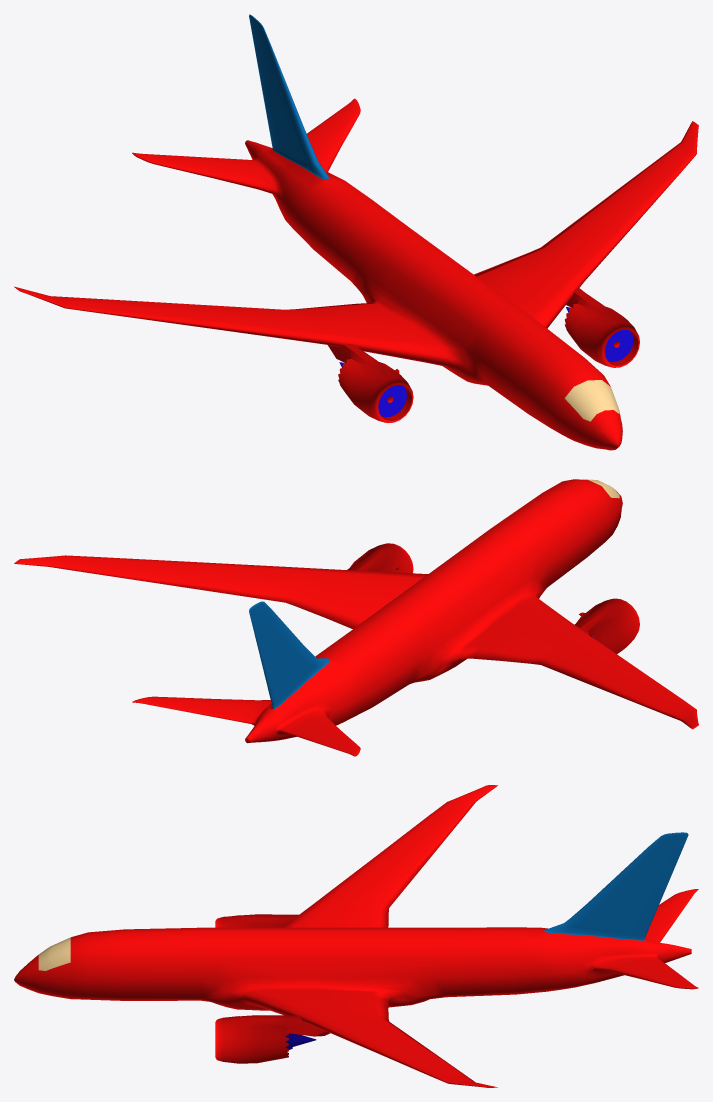
Rendered from airplane.FBX.
3 views of the same model, one above another, from view 1: azimuth 30°, elevation 25°; view 2: azimuth 150°, elevation 25°; view 3: azimuth 270°, elevation 25° (orthographic). The views are drawn at different scales.
Parts seen in each view (by area): view 1: fuselage; view 2: fuselage; view 3: fuselage.
Boxes of the visible parts, box(x1,y1,x2,y2) form: fuselage: box(14, 14, 698, 450); fuselage: box(14, 479, 698, 756); fuselage: box(14, 785, 698, 1087).
Size of the model in its own units: 5862 by 5613 by 1616.
